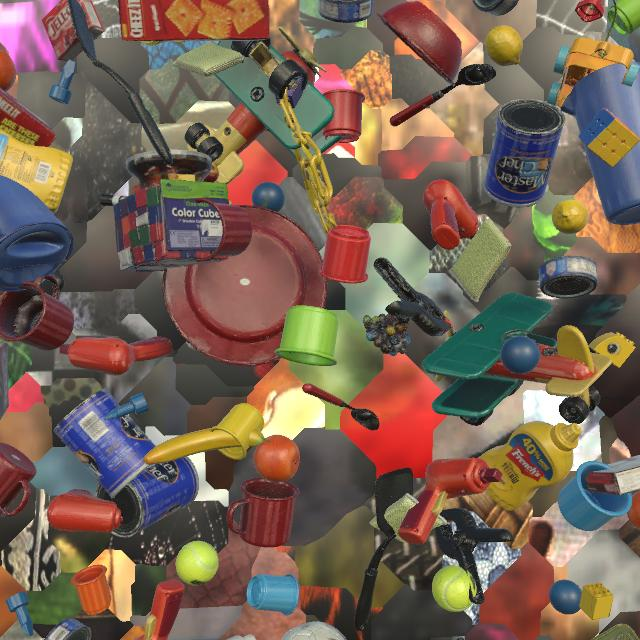ycb_002_master_chef_can: (53, 389, 156, 499), (484, 99, 565, 207), (95, 456, 199, 538)
ycb_003_cracker_box: (118, 0, 270, 41), (0, 88, 56, 147)
ycb_006_mustard_bottle: (478, 421, 582, 511), (0, 130, 73, 214)
ycb_007_tuna_fish_can: (538, 255, 598, 298), (318, 0, 373, 23), (44, 618, 92, 640), (472, 0, 519, 16)
ycb_008_pudding_box: (584, 455, 640, 495), (0, 343, 9, 420)
ycb_009_gelatin_box: (41, 0, 105, 61)
ycb_010_potted_meat_can: (591, 624, 640, 640)
ycb_011_banana: (144, 428, 271, 465)
ycb_014_lemon: (485, 26, 523, 66), (552, 199, 588, 234)
ycb_017_orange: (253, 435, 300, 482), (0, 49, 16, 92), (627, 491, 640, 531)
